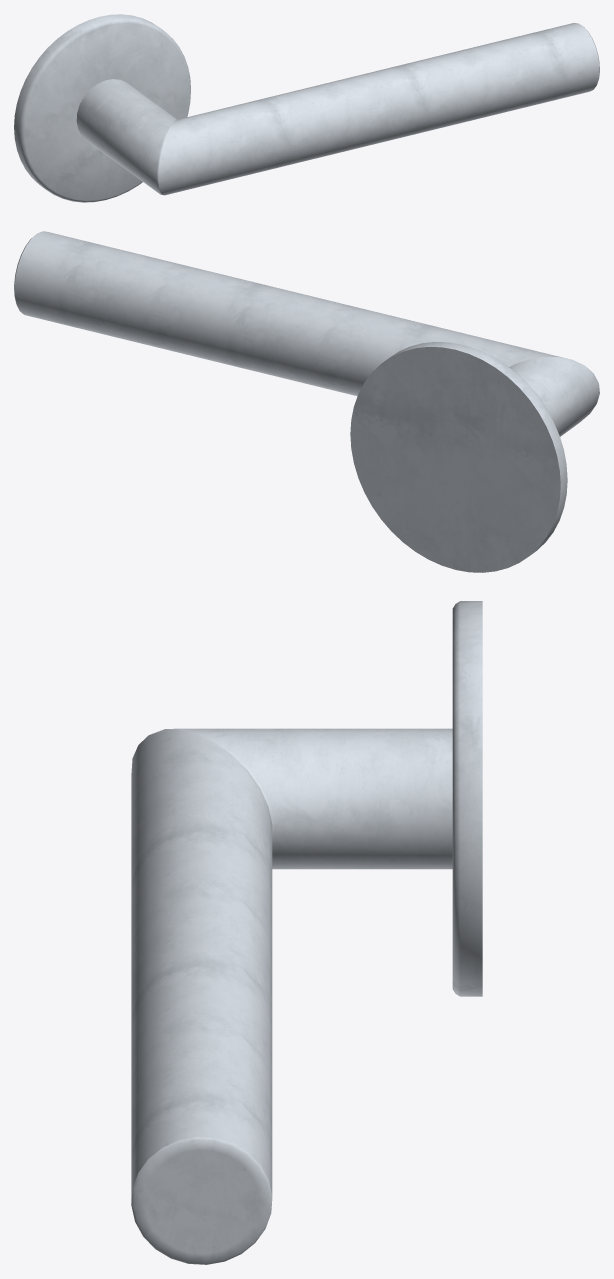
The picture shows the model from 3 angles, top to bottom: view 1: azimuth 30°, elevation 25°; view 2: azimuth 150°, elevation 25°; view 3: azimuth 270°, elevation 25°; orthographic projection. The views are drawn at different scales.
Parts seen in each view (by area): view 1: DoorHandle3; view 2: DoorHandle3; view 3: DoorHandle3.
Part boxes in pixels (x1=…): DoorHandle3: x1=14, y1=14, x2=599, y2=202; DoorHandle3: x1=14, y1=231, x2=599, y2=572; DoorHandle3: x1=131, y1=601, x2=482, y2=1264.
Bounding box in the file's own units: 0.1542 × 0.053 × 0.047.
1 material, 1 textured.
